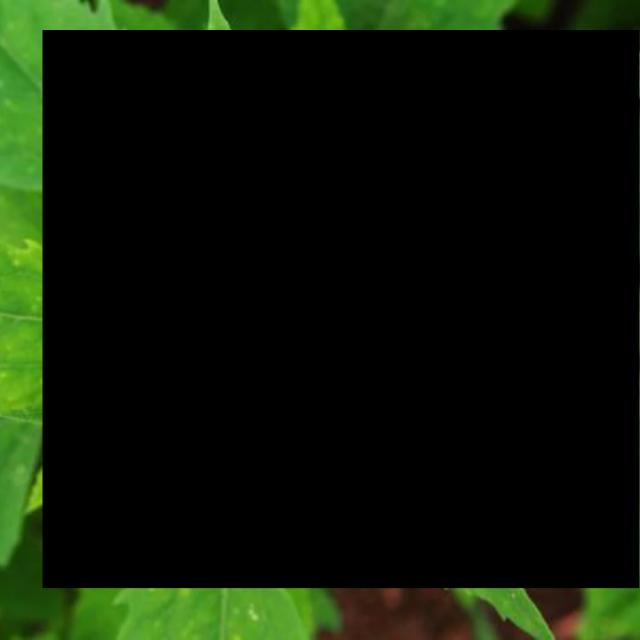Bethu_ko_Saag: (42, 30, 640, 588)
